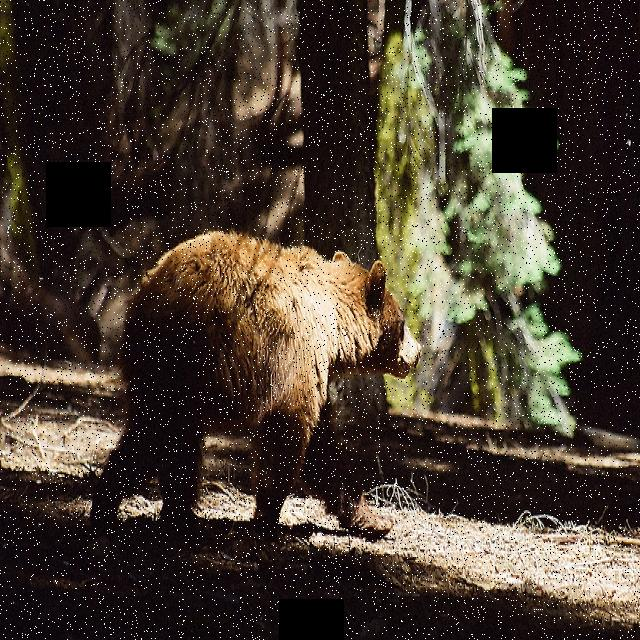Bear: (93, 205, 434, 572)
